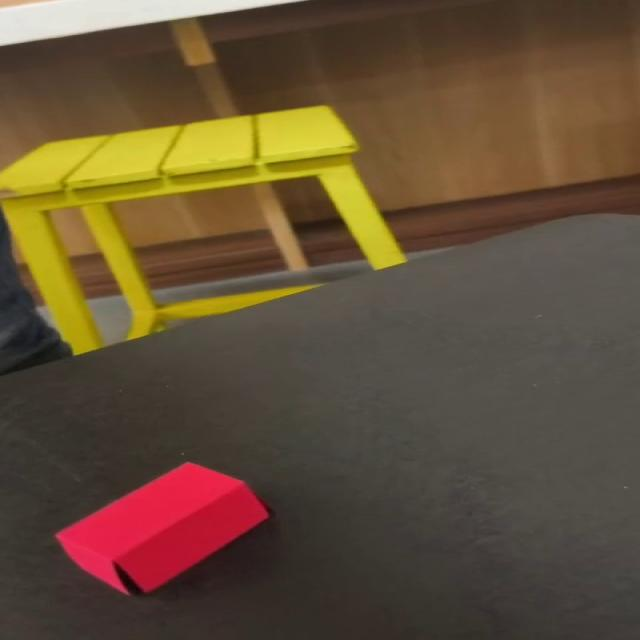red block: (53, 460, 271, 596)
